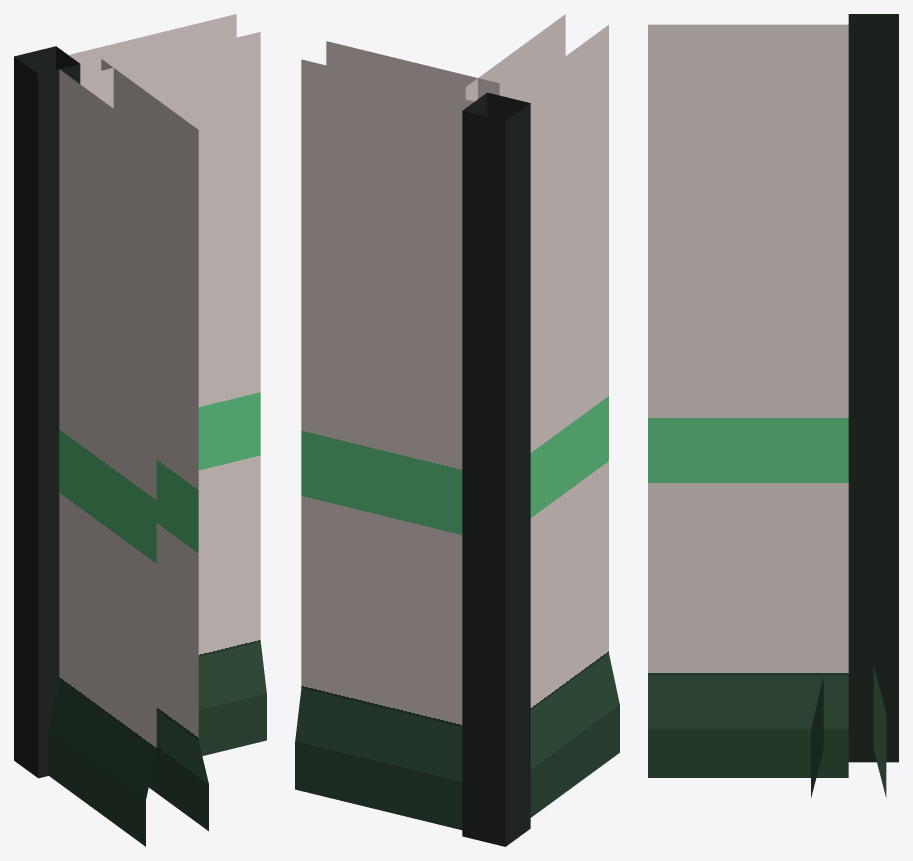
File: SportWall3.gltf
3 views of the same model, side by side, from view 1: azimuth 30°, elevation 25°; view 2: azimuth 150°, elevation 25°; view 3: azimuth 270°, elevation 25° (orthographic). The views are drawn at different scales.
Parts seen in each view (by area): view 1: cuboid; view 2: cuboid; view 3: cuboid.
Boxes of the visible parts, box(x1,y1,x2,y2) form: cuboid: box(14, 14, 266, 846); cuboid: box(295, 14, 619, 846); cuboid: box(648, 14, 898, 797).
Size of the model in its own units: 1.25 by 4 by 1.25.
1 material, 1 textured.
